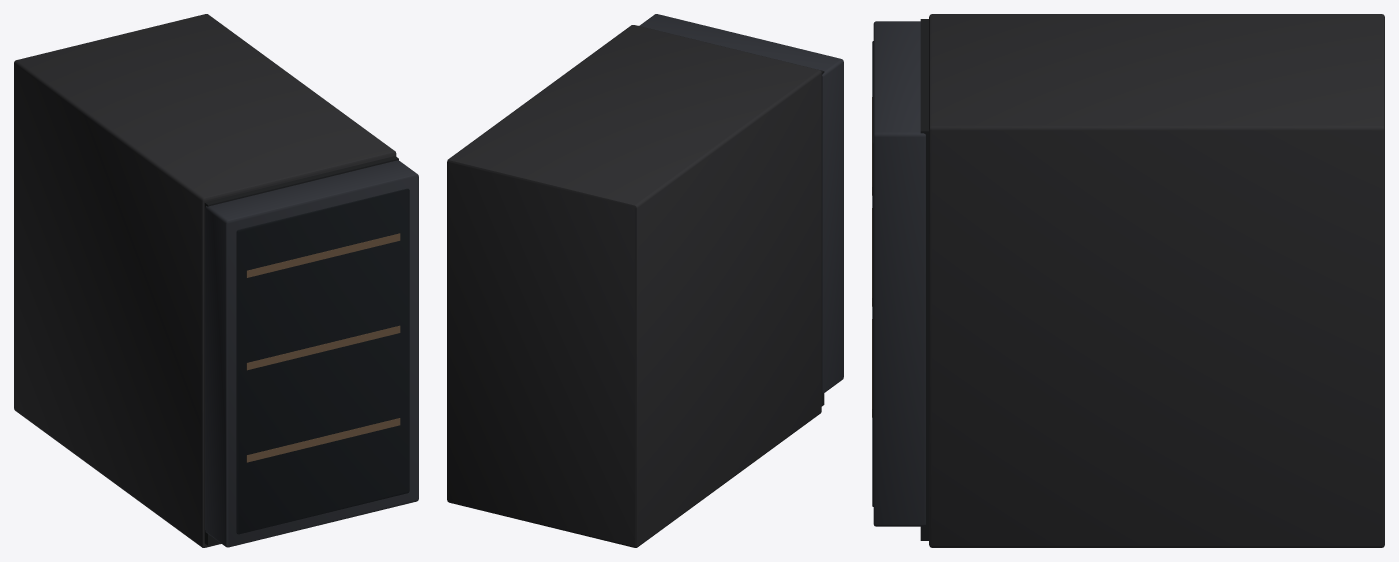
3 views of the same model, side by side, from view 1: azimuth 30°, elevation 25°; view 2: azimuth 150°, elevation 25°; view 3: azimuth 270°, elevation 25° (orthographic). The views are drawn at different scales.
Parts seen in each view (by area): view 1: W087B; view 2: W087B; view 3: W087B.
Part boxes in pixels (<box>): W087B: <box>14,14,418,547</box>; W087B: <box>447,14,843,547</box>; W087B: <box>872,14,1384,547</box>.
Size of the model in its own units: 0.282 by 0.497 by 0.534.
